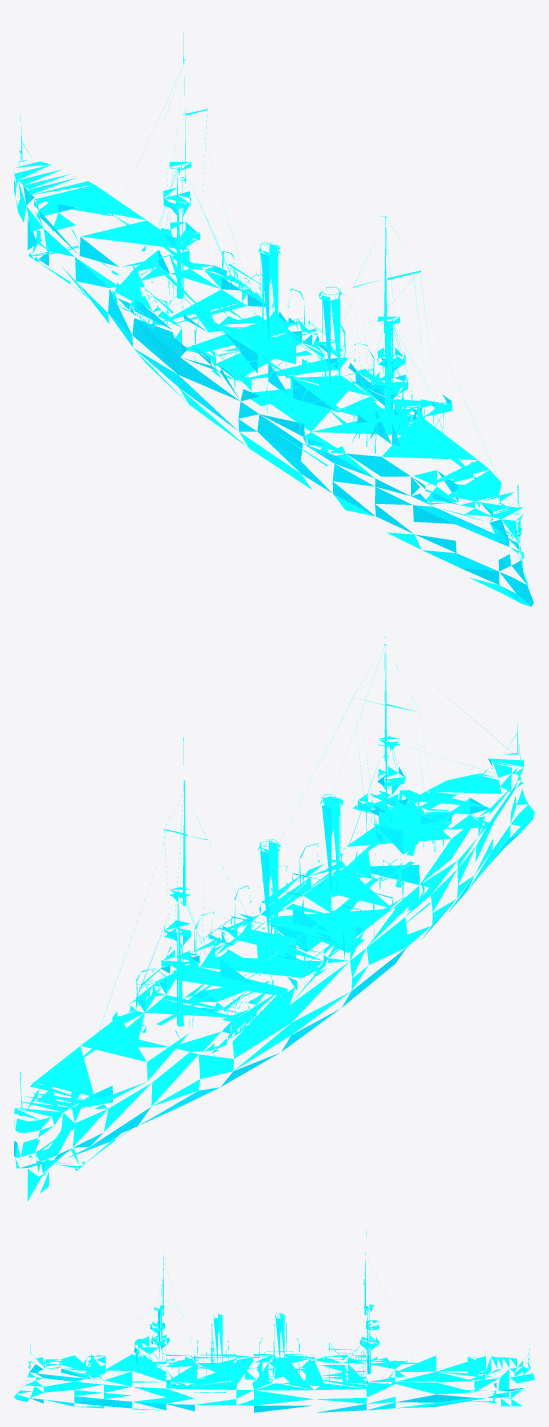
Rendered from Albany.glb.
3 views of the same model, one above another, from view 1: azimuth 30°, elevation 25°; view 2: azimuth 150°, elevation 25°; view 3: azimuth 270°, elevation 25° (orthographic). The views are drawn at different scales.
Bounding box in the file's own units: 0.9104 × 2.69 × 7.18.
